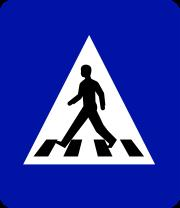Pedestrian Crossing: (14, 27, 164, 183)
